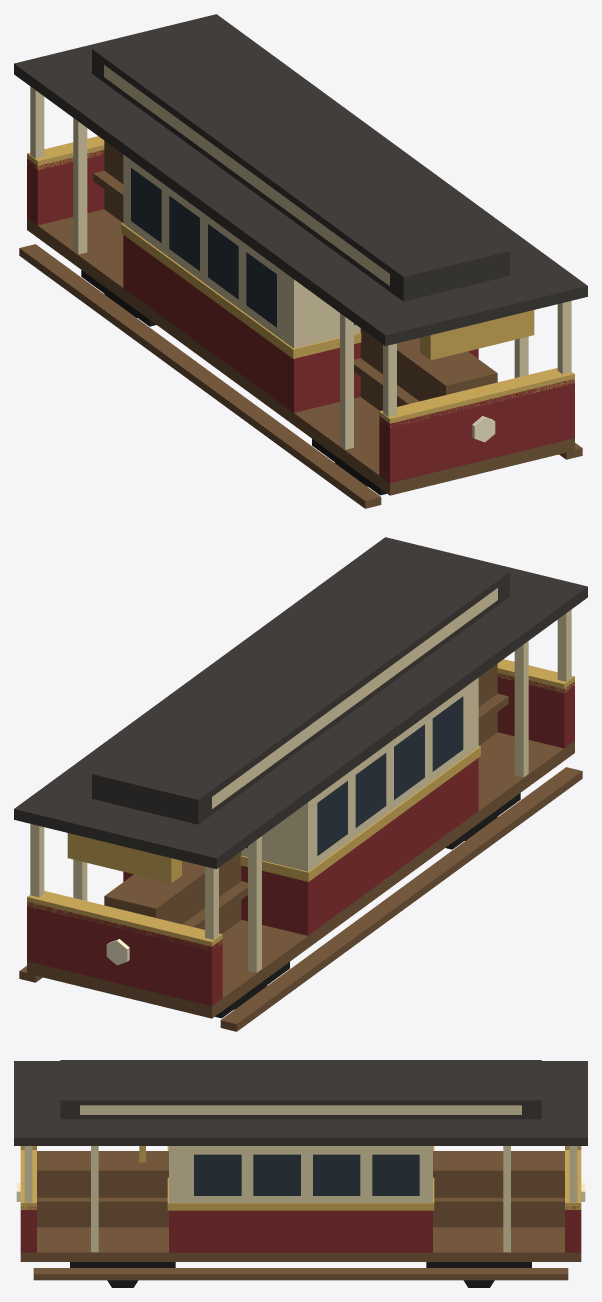
The model's file is cable-car.glb.
3 views of the same model, one above another, from view 1: azimuth 30°, elevation 25°; view 2: azimuth 150°, elevation 25°; view 3: azimuth 270°, elevation 25° (orthographic). The views are drawn at different scales.
Parts seen in each view (by area): view 1: cable_car_body; view 2: cable_car_body; view 3: cable_car_body.
Part boxes in pixels (left/top/right/bottom): cable_car_body: left=14, top=14, right=587, bottom=508; cable_car_body: left=14, top=537, right=587, bottom=1031; cable_car_body: left=14, top=1060, right=587, bottom=1287.
Size of the model in its own units: 2.94 by 3.04 by 8.7.
